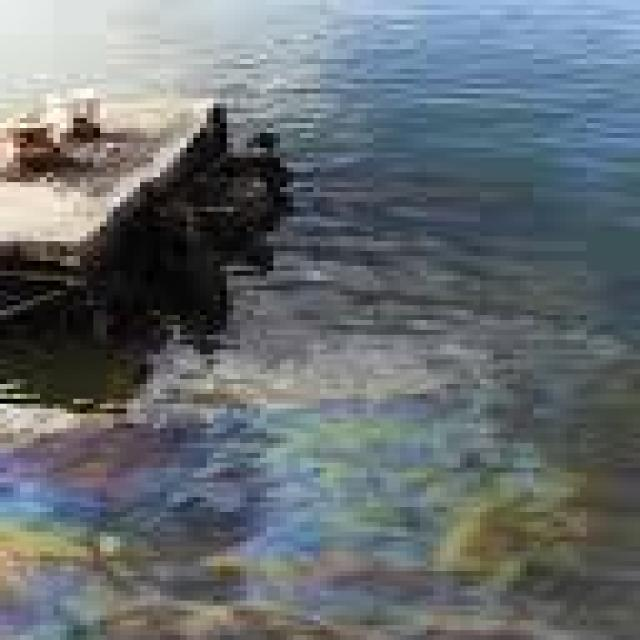-: (0, 394, 640, 640), (333, 192, 640, 640)
